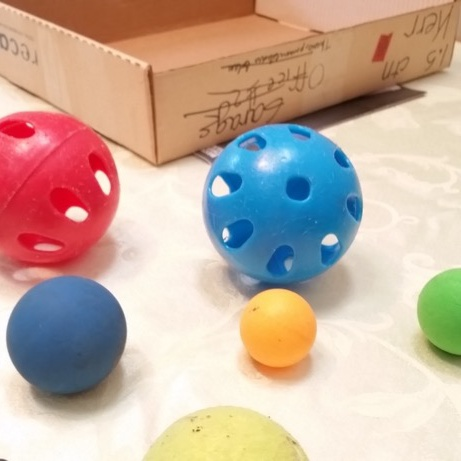ball: (200, 120, 366, 288), (0, 104, 124, 268)
